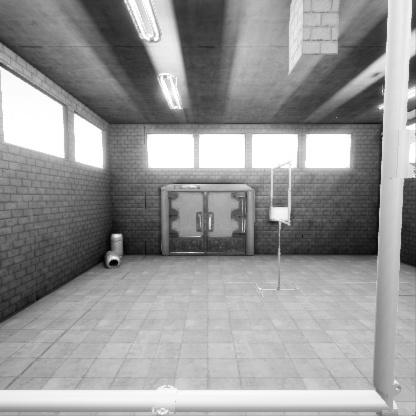gate: (270, 193, 291, 258)
